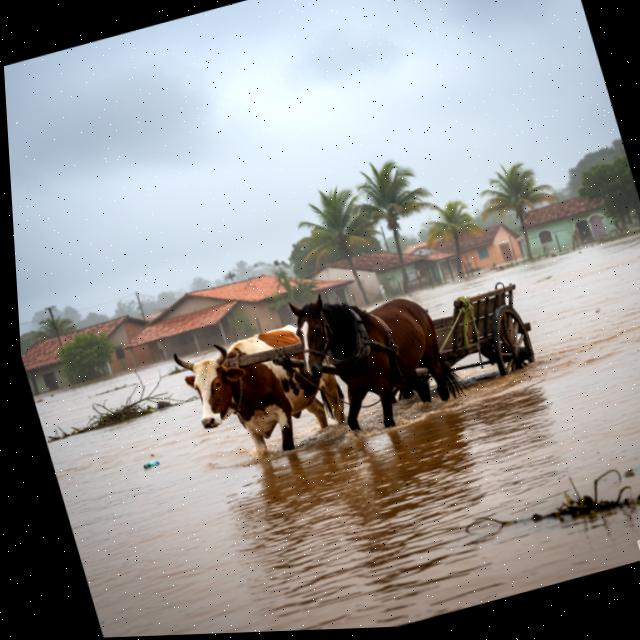cow: (161, 309, 360, 486)
horse: (278, 260, 477, 454)
